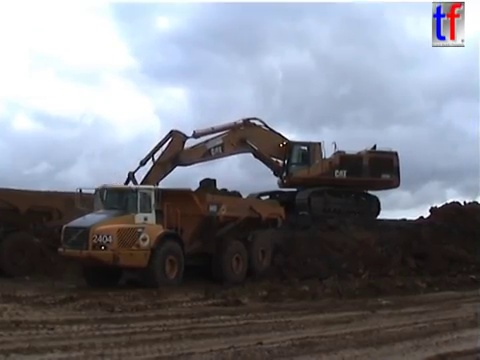excavator: (110, 115, 404, 229)
truck: (55, 173, 289, 290), (1, 184, 153, 282)
